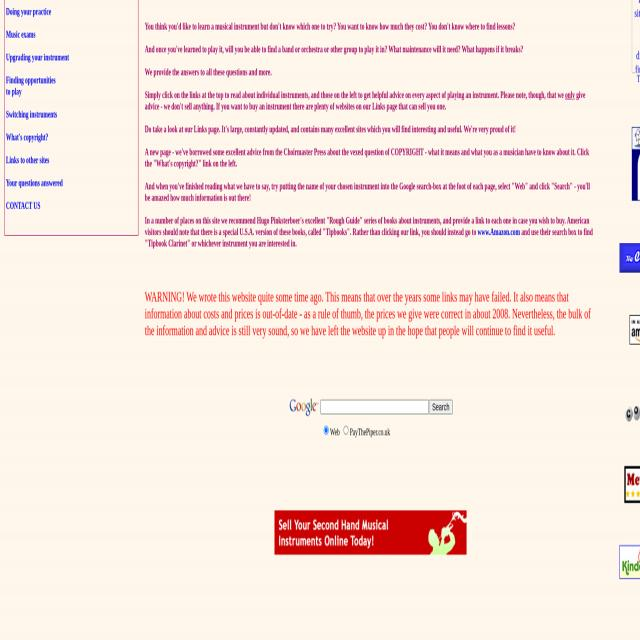button: (274, 509, 465, 554), (288, 394, 318, 418), (428, 398, 452, 413)
field: (320, 398, 428, 413), (323, 424, 329, 434), (342, 424, 348, 434)
